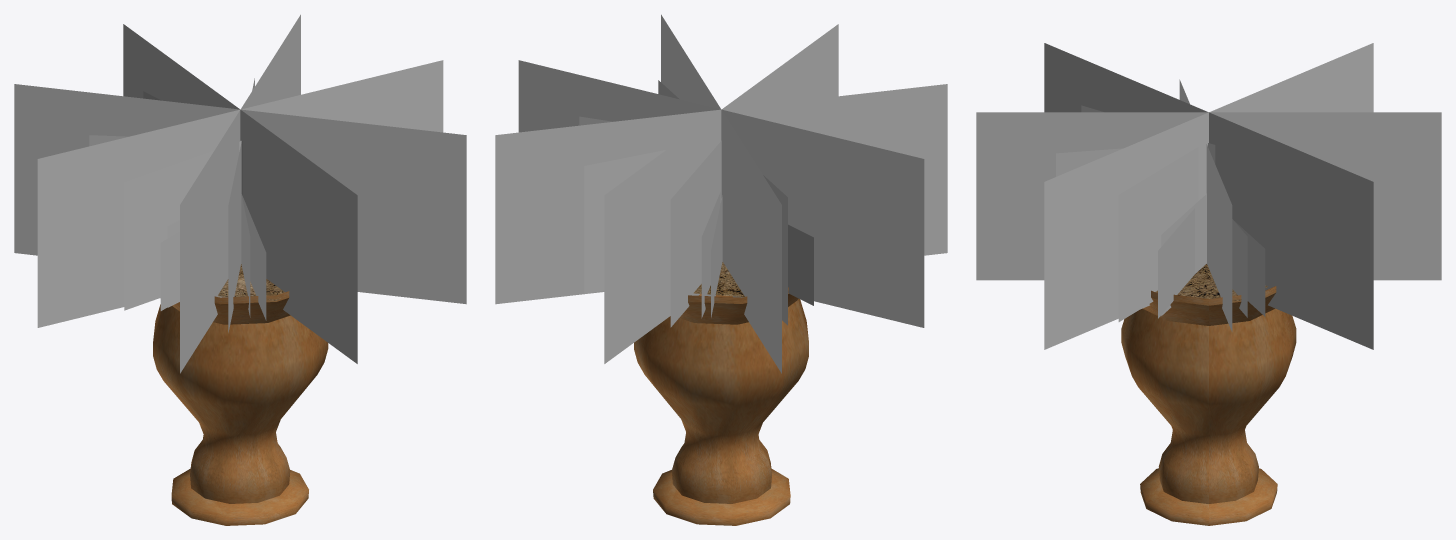
File: Model_Plant_Potted_02.fbx
The picture shows the model from 3 angles, left to right: view 1: azimuth 30°, elevation 25°; view 2: azimuth 150°, elevation 25°; view 3: azimuth 270°, elevation 25°; orthographic projection.
Parts seen in each view (by area): view 1: Potted_Plant_02; view 2: Potted_Plant_02; view 3: Potted_Plant_02.
Boxes of the visible parts, bbox=[...] form: Potted_Plant_02: bbox=[14, 14, 466, 525]; Potted_Plant_02: bbox=[495, 14, 947, 525]; Potted_Plant_02: bbox=[976, 43, 1441, 525].
Size of the model in its own units: 86.87 by 79.3 by 86.87.
